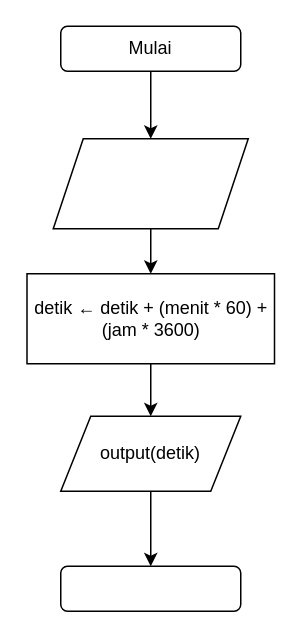
This 300x638 diagram has some shape labels left out. Here are the shapes that lost their labels. From the top down, the centre of each, then its label:
point 150,183: input(jam) input(menit) input(detik)
point 150,588: Selesai
